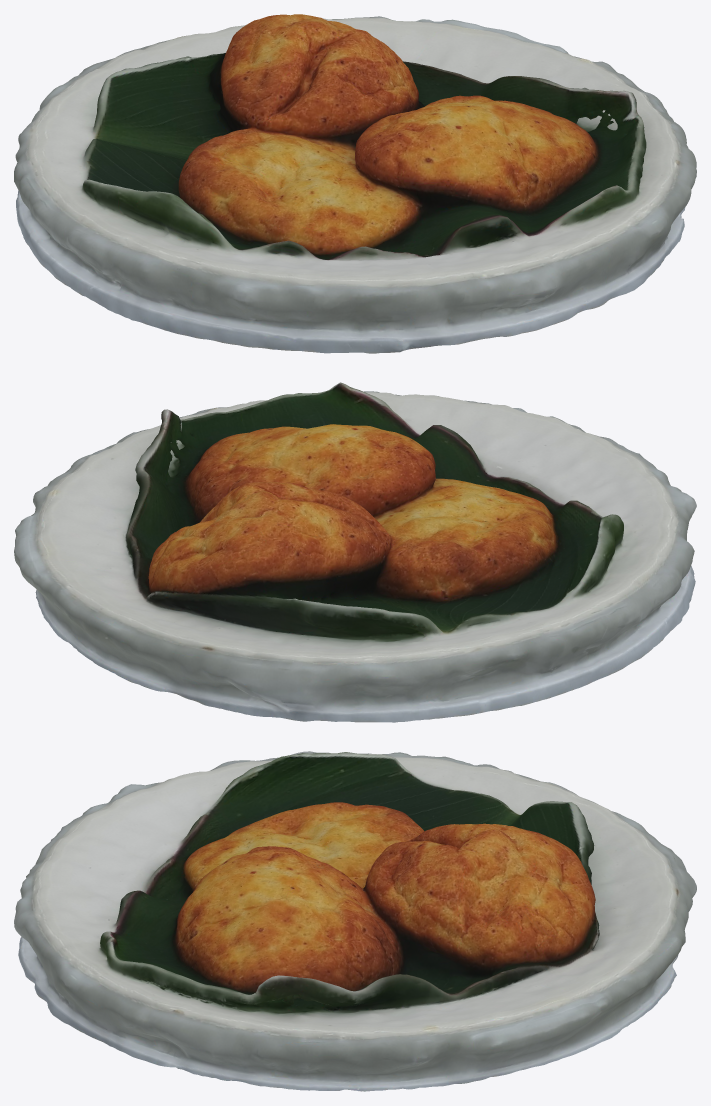
Rendered from pan_de_maiz.glb.
3 views of the same model, one above another, from view 1: azimuth 30°, elevation 25°; view 2: azimuth 150°, elevation 25°; view 3: azimuth 270°, elevation 25° (orthographic).
Parts seen in each view (by area): view 1: Retopo_3DModel; view 2: Retopo_3DModel; view 3: Retopo_3DModel.
Part boxes in pixels (x1,y1,x2,y2): Retopo_3DModel: (14,14,696,353); Retopo_3DModel: (14,382,696,722); Retopo_3DModel: (14,751,696,1091).
Bounding box in the file's own units: 0.1471 × 0.0313 × 0.1473.
Materials: 1 (1 with a texture image).
